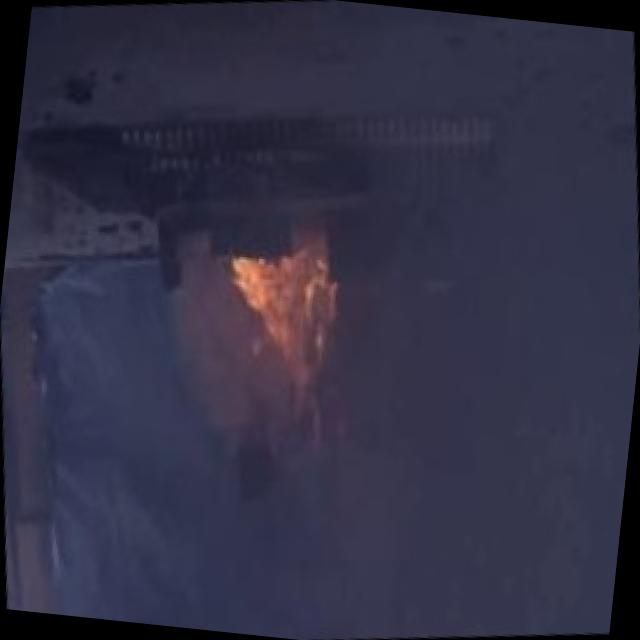fire: (211, 206, 364, 399)
